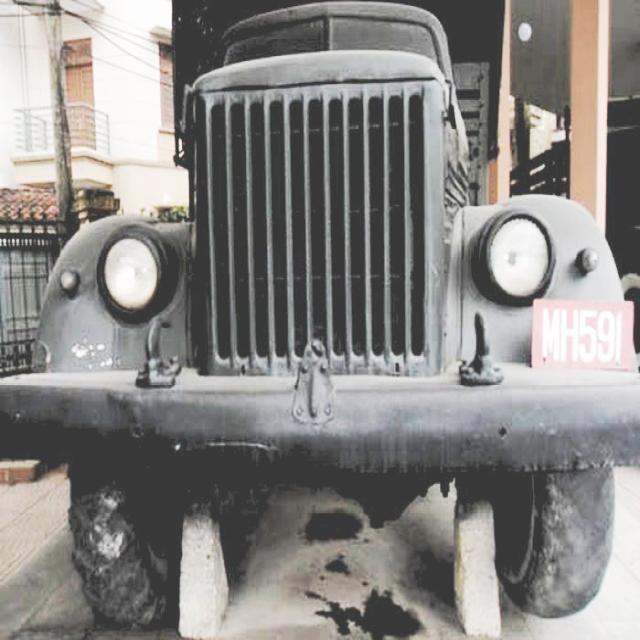license_plate: (534, 301, 635, 369)
